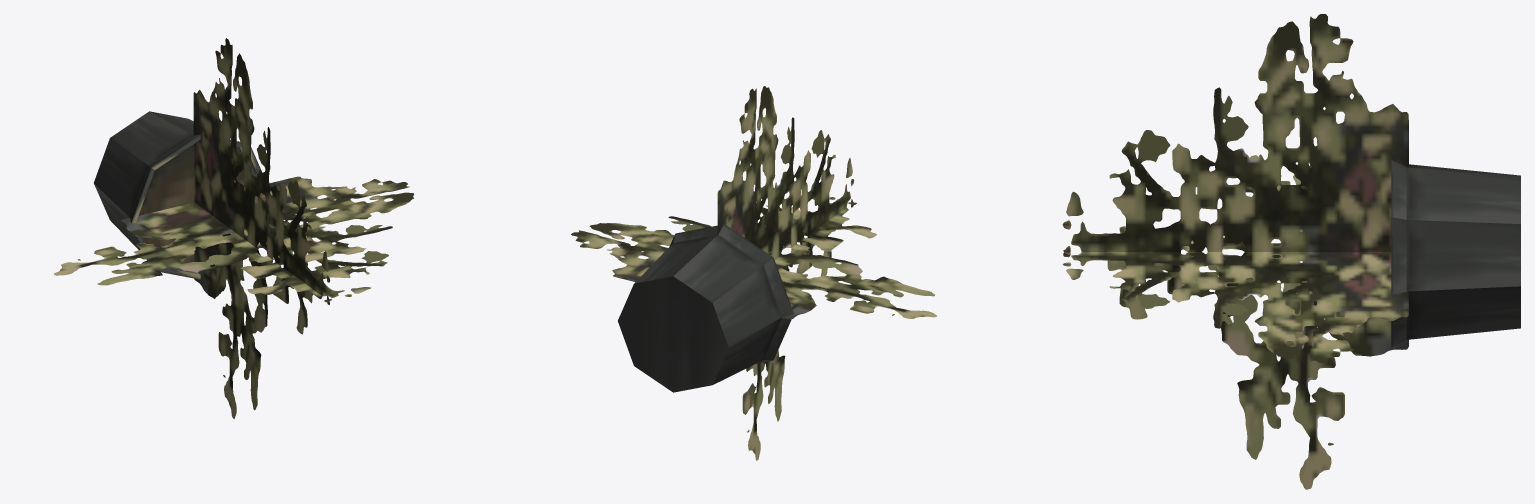
The model's file is pz_native_ficus_20.obj.
The picture shows the model from 3 angles, left to right: view 1: azimuth 30°, elevation 25°; view 2: azimuth 150°, elevation 25°; view 3: azimuth 270°, elevation 25°; orthographic projection. The views are drawn at different scales.
Visible parts, largest first — view 1: foliage_crossed_cards, pot_shell, soil; view 2: foliage_crossed_cards, pot_shell, pot_bottom; view 3: foliage_crossed_cards, pot_shell.
Boxes of the visible parts, left/top/right/bottom form: foliage_crossed_cards: left=54, top=38, right=414, bottom=418; pot_shell: left=94, top=111, right=261, bottom=279; soil: left=138, top=144, right=245, bottom=262; foliage_crossed_cards: left=571, top=86, right=937, bottom=460; pot_shell: left=634, top=224, right=793, bottom=384; pot_bottom: left=618, top=276, right=728, bottom=392; foliage_crossed_cards: left=1062, top=14, right=1408, bottom=489; pot_shell: left=1391, top=160, right=1520, bottom=347.
Size of the model in its own units: 1.22 by 1.22 by 1.06.
1 material, 1 textured.
